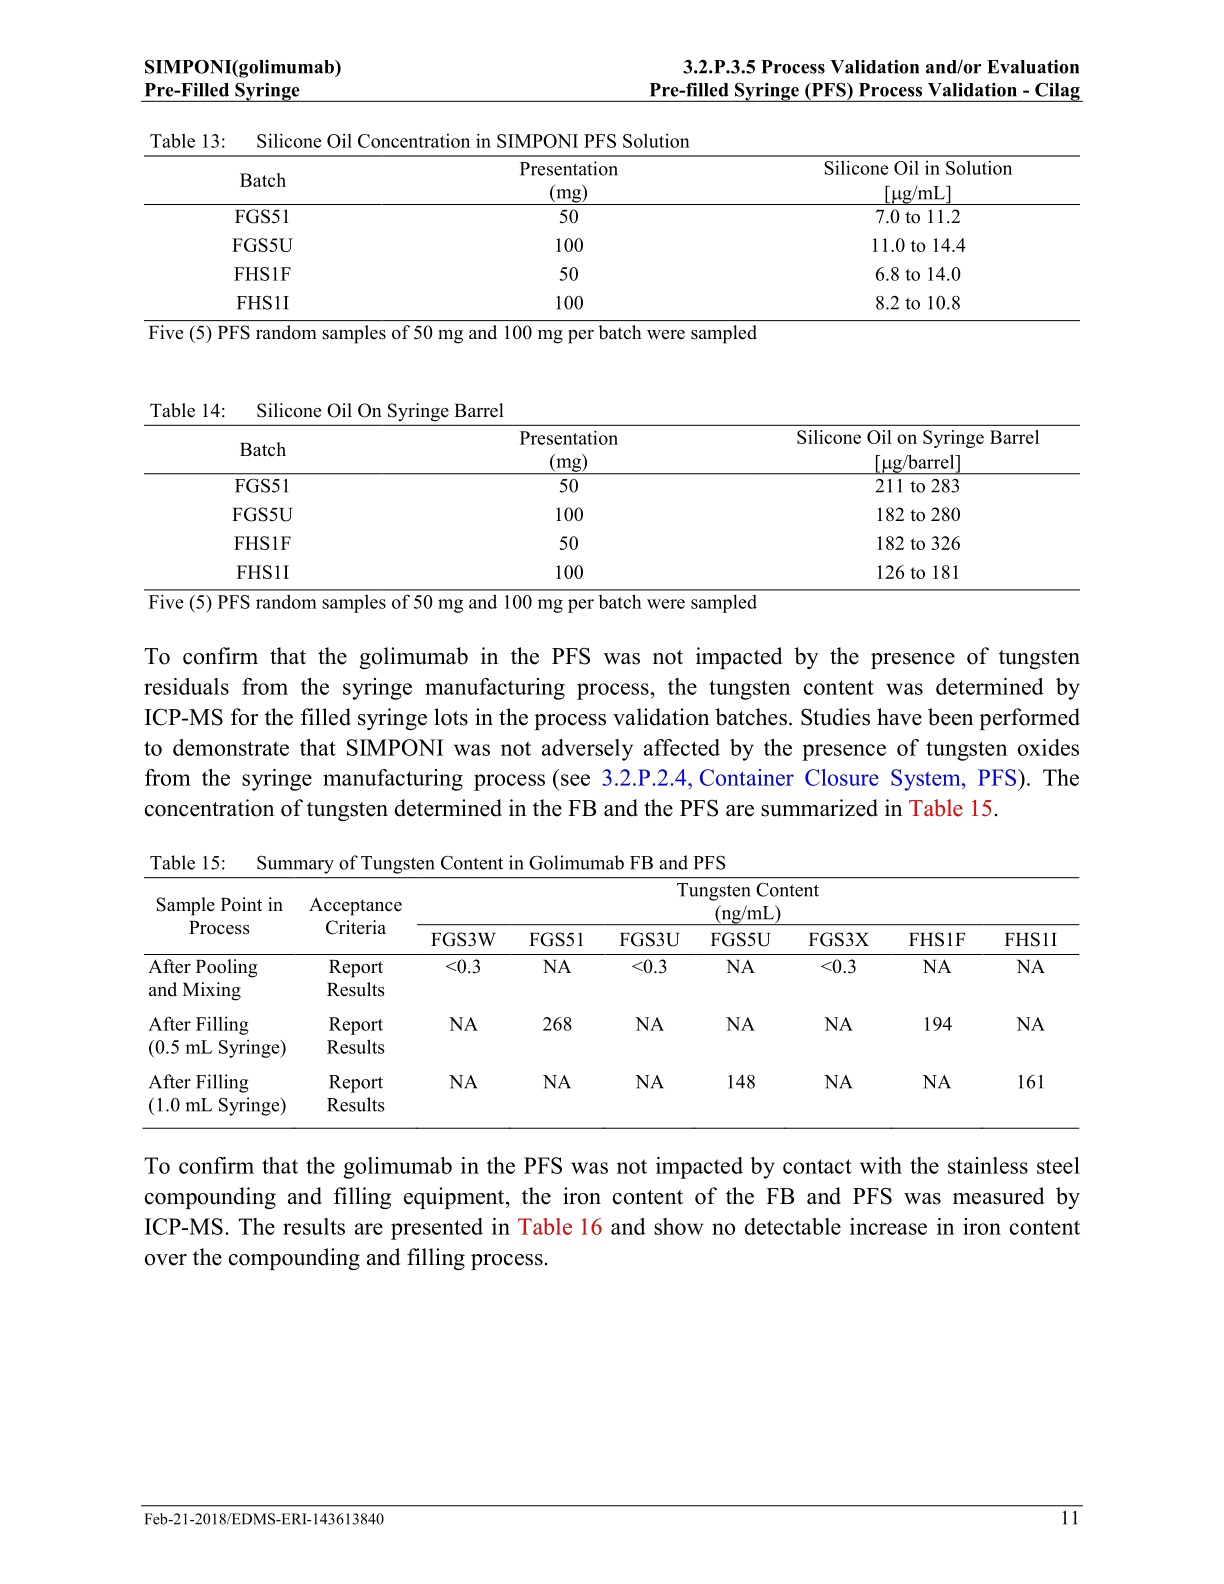partial_lined: (144, 152, 1084, 321), (141, 423, 1083, 591)
partial_lined_merged_cells: (141, 876, 1083, 1131)
